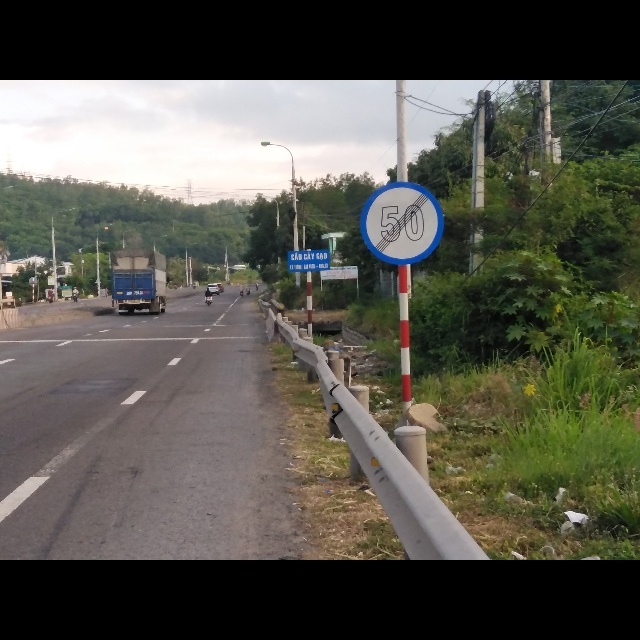Hết hạn chế tốc độ tối đa 50km/h: (360, 180, 447, 269)
